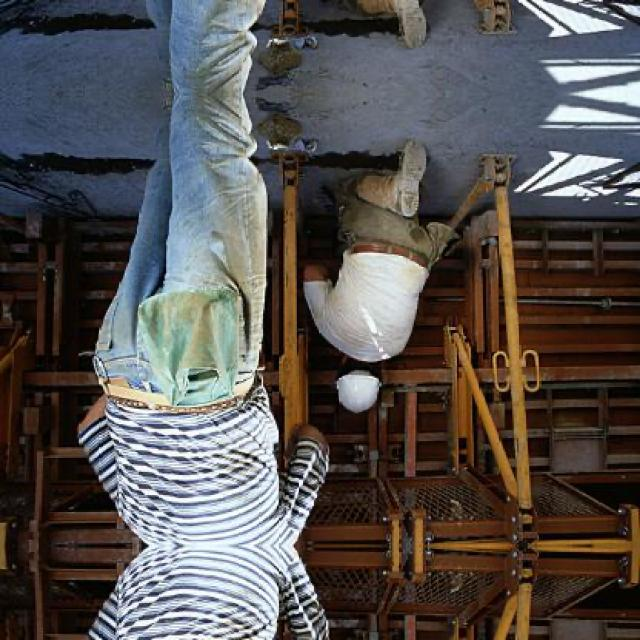con casco: (321, 323, 413, 423)
